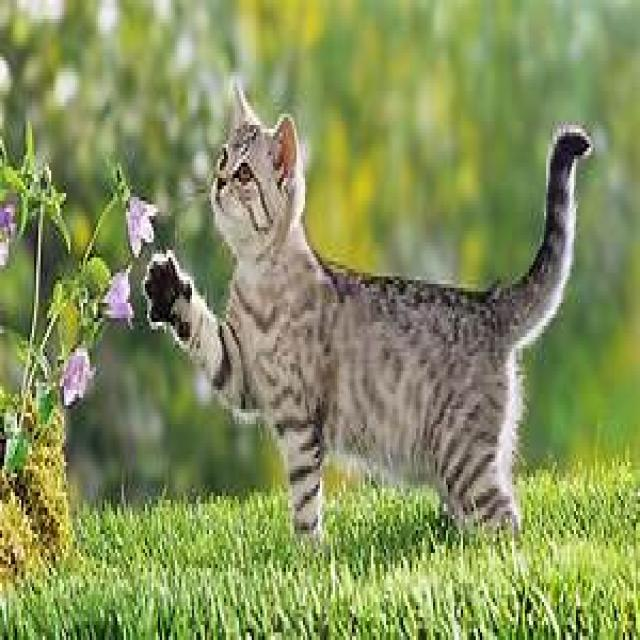animal: (146, 80, 592, 531)
